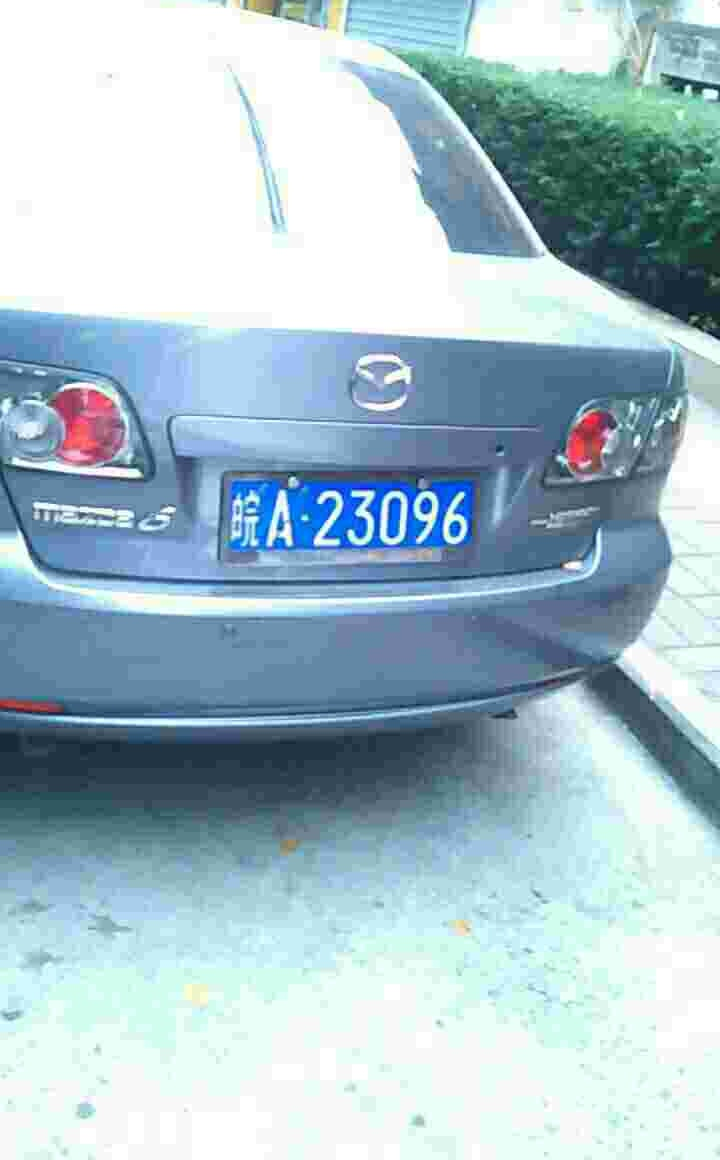license_plate: (224, 476, 473, 562)
